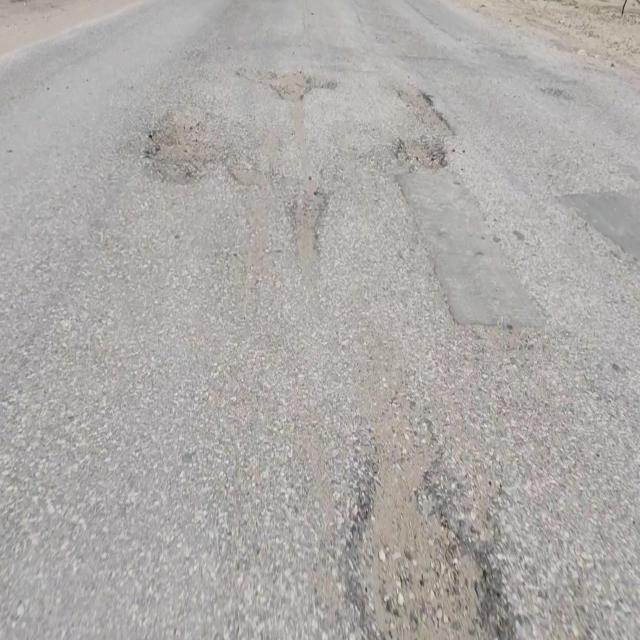Potholes: (345, 437, 513, 640), (148, 103, 215, 186), (291, 179, 329, 272), (392, 135, 447, 169), (275, 66, 312, 102)
